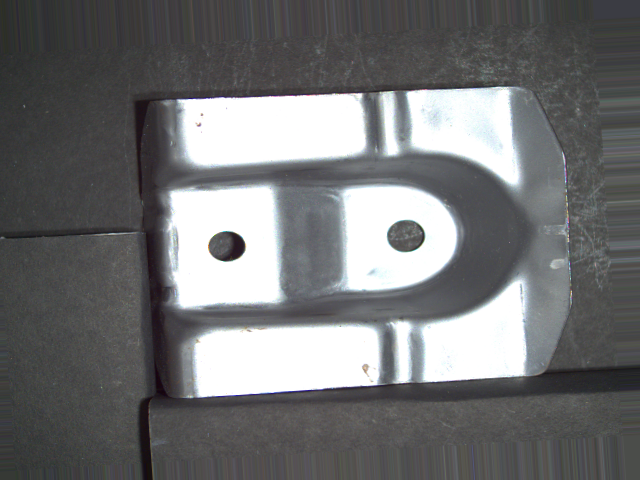defect: (385, 218, 429, 254)
